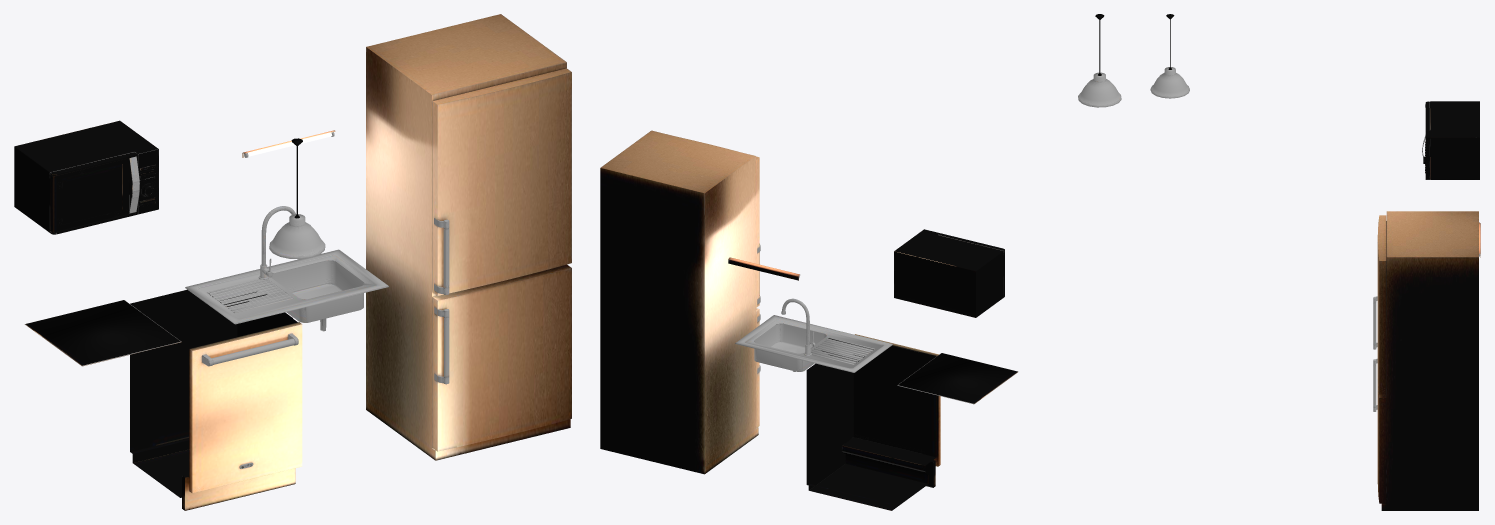
Rendered from SM_LivR_F2.glb.
The picture shows the model from 3 angles, left to right: view 1: azimuth 30°, elevation 25°; view 2: azimuth 150°, elevation 25°; view 3: azimuth 270°, elevation 25°; orthographic projection. The views are drawn at different scales.
Visible parts, largest first — view 1: SM_LivR_F2; view 2: SM_LivR_F2; view 3: SM_LivR_F2.
Part boxes in pixels (bbox=[...]): SM_LivR_F2: bbox=[14, 14, 571, 510]; SM_LivR_F2: bbox=[600, 14, 1121, 510]; SM_LivR_F2: bbox=[1150, 14, 1480, 510].
Size of the model in its own units: 2.52 by 2.49 by 2.12.
1 material, 1 textured.
